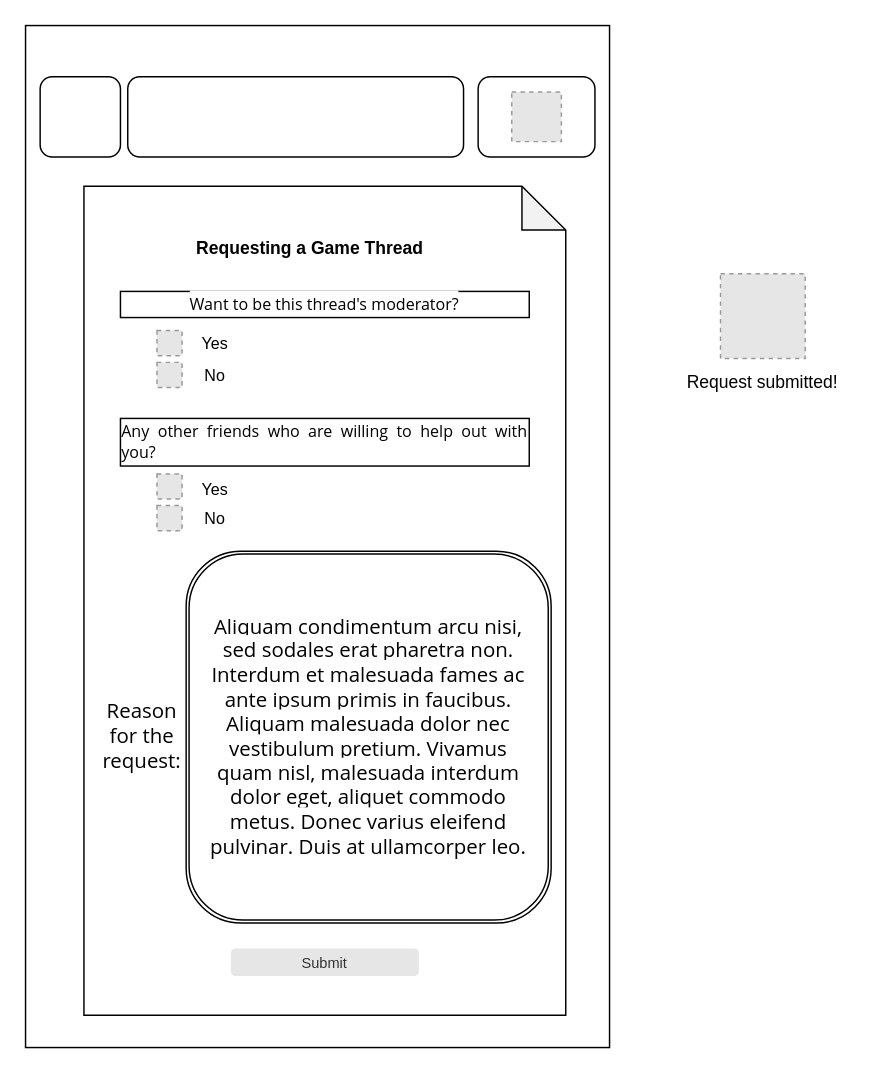
Some shapes in this 869 by 1073 pixel diagram are drawn without their labels. Grey dashed boxes stand in for pictures. The centre of each missing label's shape, as x and y in pixels:
"LOGO" belongs at [79,116].
"SEARCH" belongs at [295,116].
